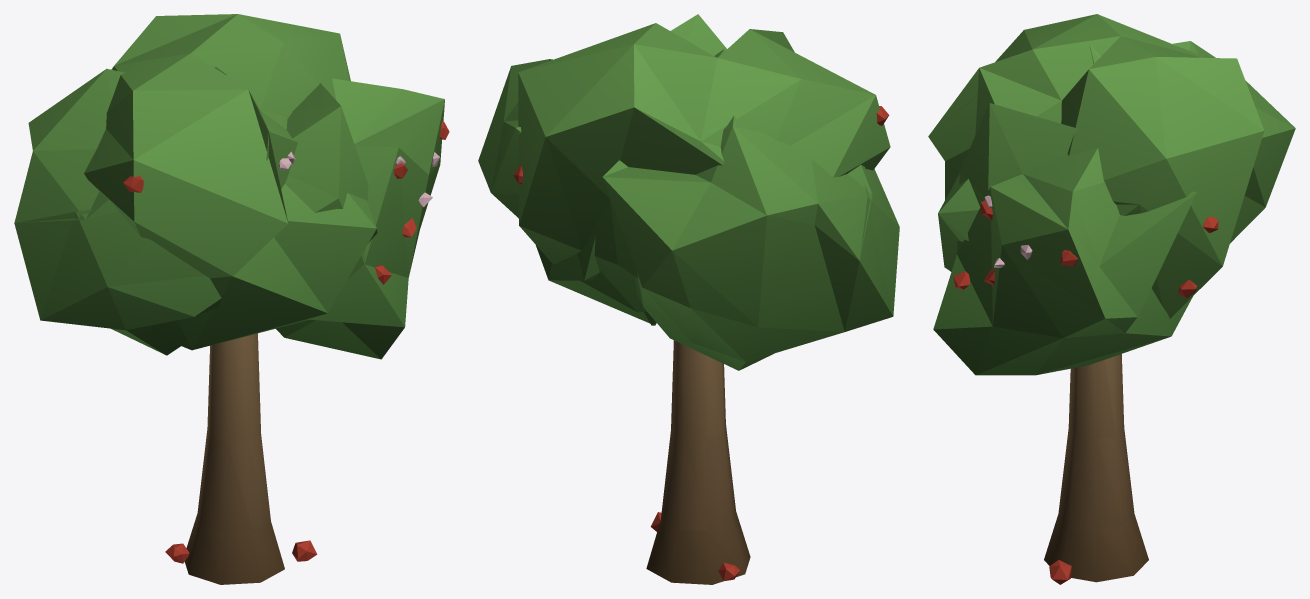
File: apple-tree.glb
The picture shows the model from 3 angles, left to right: view 1: azimuth 30°, elevation 25°; view 2: azimuth 150°, elevation 25°; view 3: azimuth 270°, elevation 25°; orthographic projection. The views are drawn at different scales.
Visible parts, largest first — view 1: apple_tree; view 2: apple_tree; view 3: apple_tree.
Part boxes in pixels (<box>): apple_tree: <box>14,14,449,584</box>; apple_tree: <box>478,14,899,584</box>; apple_tree: <box>928,14,1295,584</box>.
Bounding box in the file's own units: 3.18 × 3.92 × 2.51.
